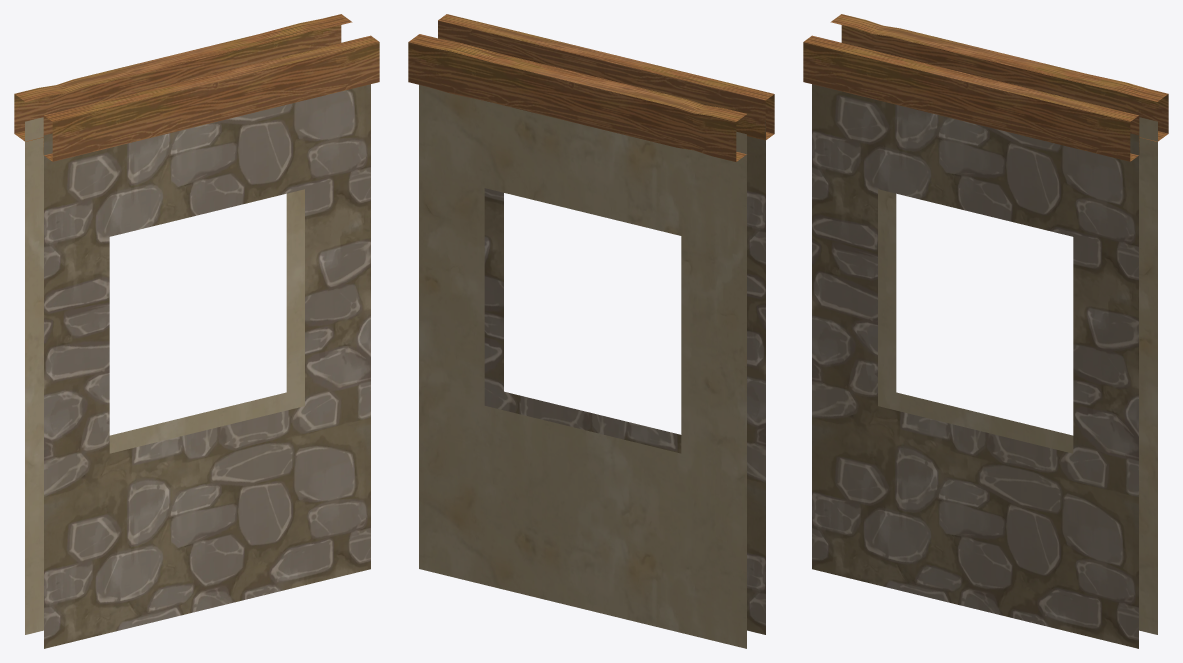
The model's file is Wall_UnevenBrick_Window_Wide_Flat.glb.
3 views of the same model, side by side, from view 1: azimuth 30°, elevation 25°; view 2: azimuth 150°, elevation 25°; view 3: azimuth 330°, elevation 25° (orthographic).
Visible parts, largest first — view 1: Wall_UnevenBrick_Window_Wide_Flat; view 2: Wall_UnevenBrick_Window_Wide_Flat; view 3: Wall_UnevenBrick_Window_Wide_Flat.
Boxes of the visible parts, x1,y1,x2,y2 form: Wall_UnevenBrick_Window_Wide_Flat: (14,14,379,648); Wall_UnevenBrick_Window_Wide_Flat: (408,14,774,648); Wall_UnevenBrick_Window_Wide_Flat: (803,14,1168,648).
Bounding box in the file's own units: 2 × 3.12 × 0.4064.
Materials: 3 (3 with a texture image).
